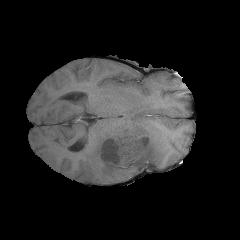glioma: (81, 117, 175, 183)
